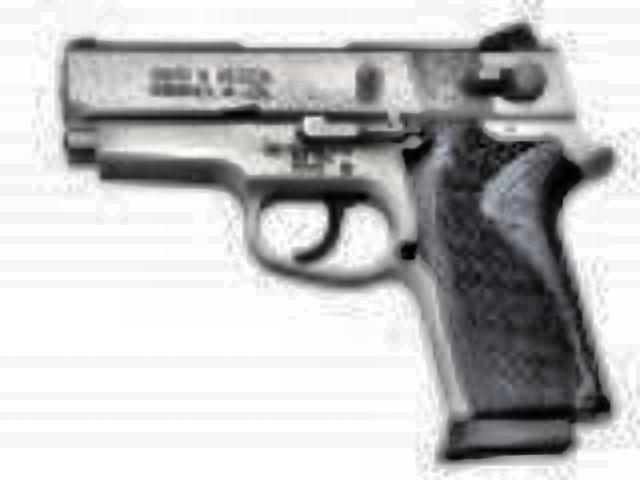pistol: (60, 20, 620, 460)
